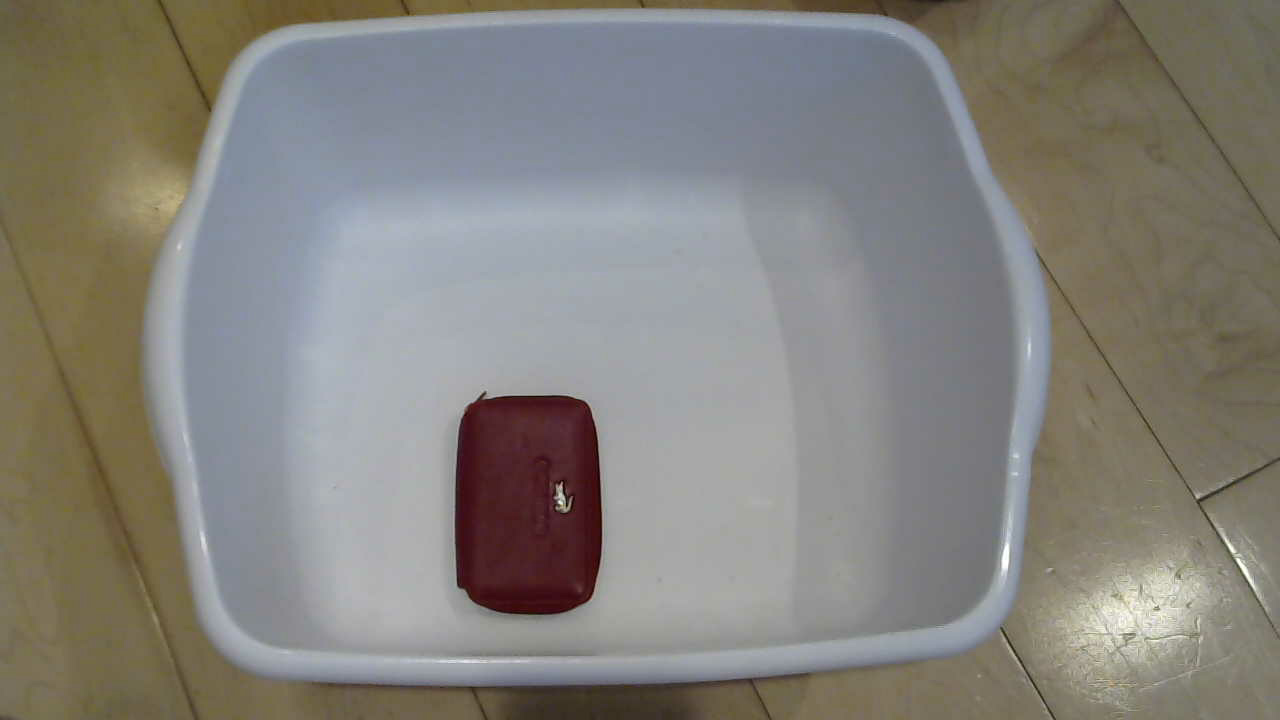wallet: (426, 392, 614, 623)
